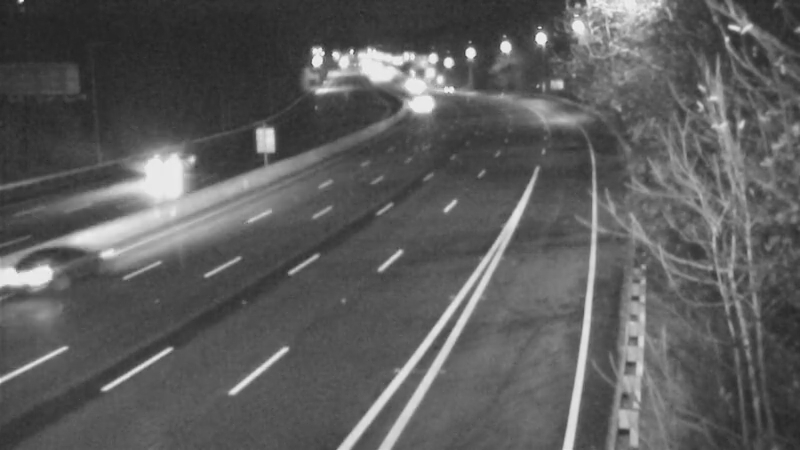vehicle: (2, 233, 82, 313), (127, 124, 207, 204), (424, 66, 474, 116), (396, 80, 446, 130)
